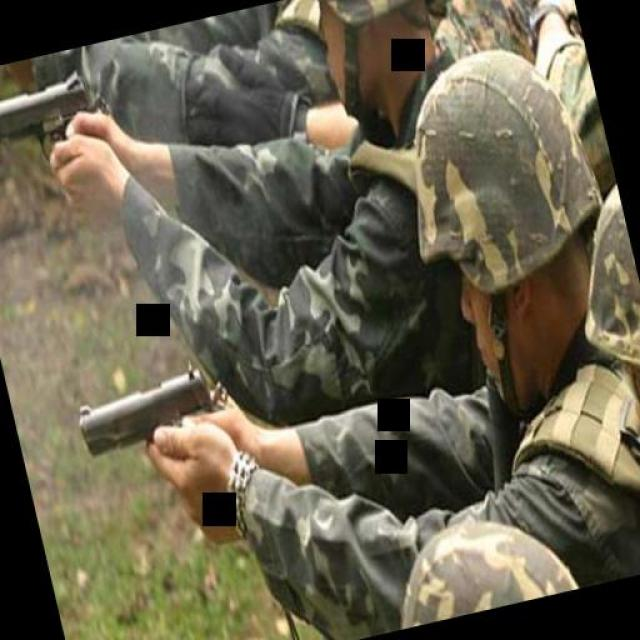gun: (65, 358, 245, 532), (0, 53, 121, 188)
